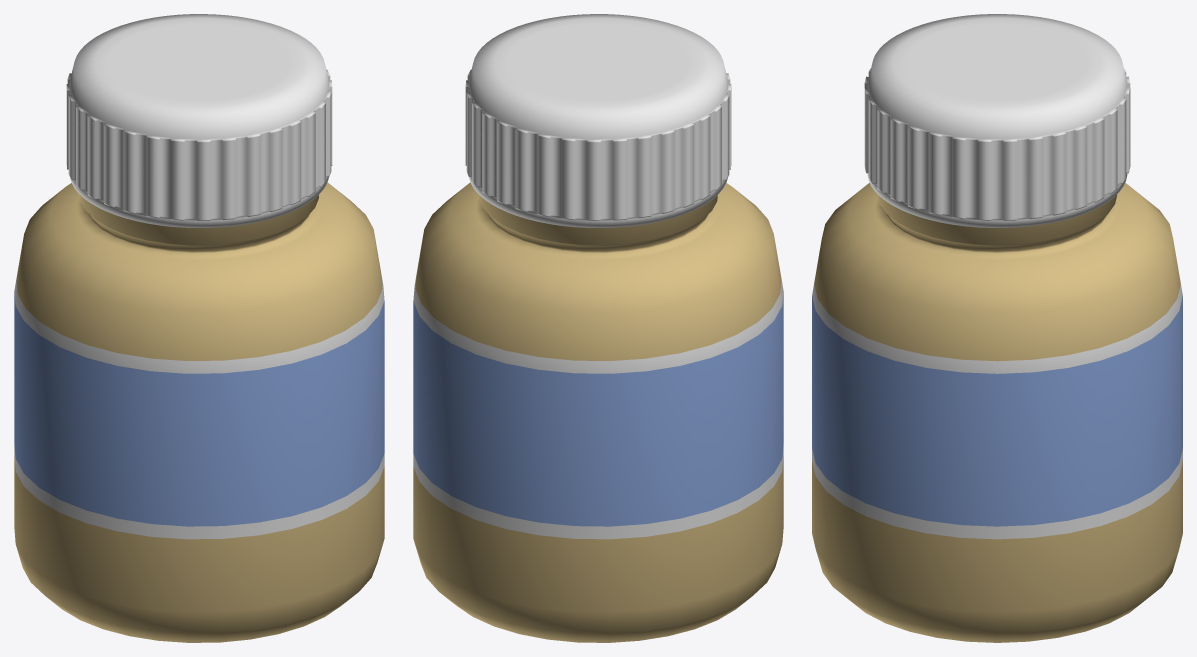
The model's file is bottleOutcover.fbx.
3 views of the same model, side by side, from view 1: azimuth 30°, elevation 25°; view 2: azimuth 150°, elevation 25°; view 3: azimuth 270°, elevation 25° (orthographic).
Visible parts, largest first — view 1: pill_bottle.001, pill_lid.001, pill_lid, pill_bottle; view 2: pill_bottle.001, pill_lid.001, pill_lid, pill_bottle; view 3: pill_bottle.001, pill_lid.001, pill_lid, pill_bottle.
Part boxes in pixels (x1,y1,x2,y2): pill_bottle.001: (14,182,384,642); pill_lid.001: (66,14,332,227); pill_lid: (66,76,332,181); pill_bottle: (14,276,384,539); pill_bottle.001: (413,182,783,642); pill_lid.001: (465,14,731,227); pill_lid: (465,76,731,181); pill_bottle: (413,276,783,539); pill_bottle.001: (812,183,1182,642); pill_lid.001: (864,14,1130,227); pill_lid: (864,72,1130,180); pill_bottle: (812,284,1182,539).
Bounding box in the file's own units: 11.04 × 17.08 × 11.04.
